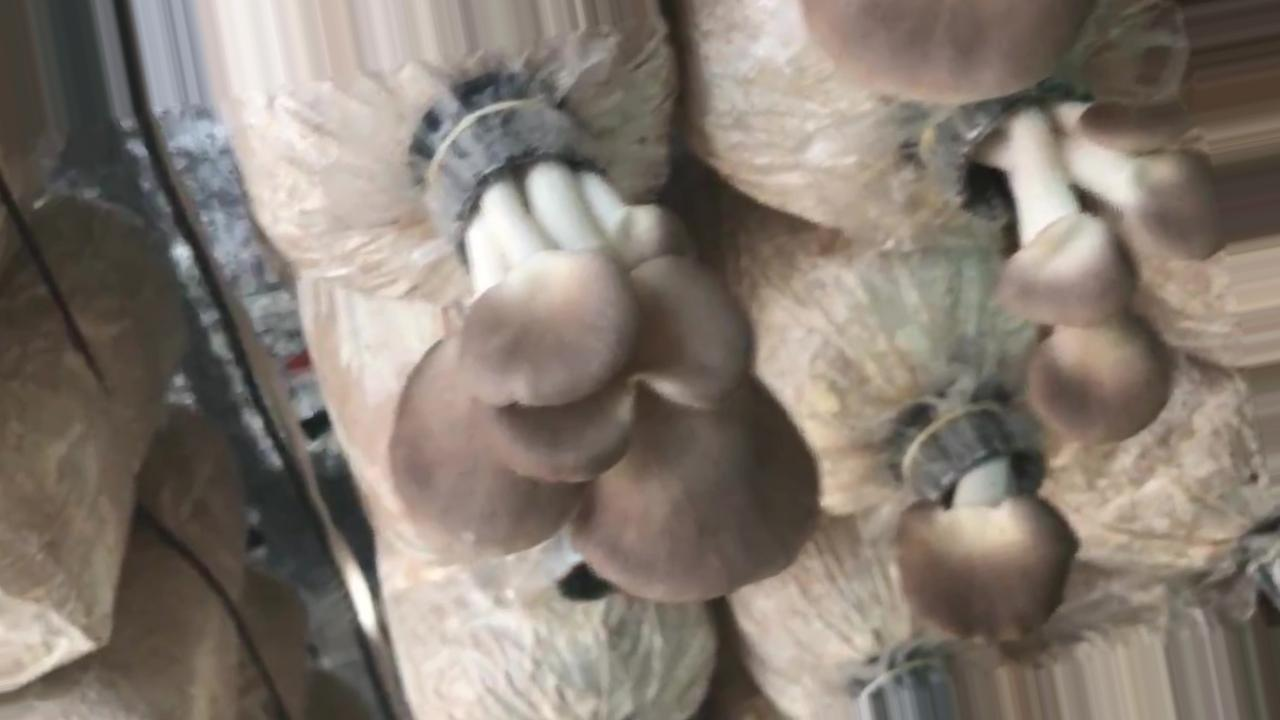nam: (393, 105, 816, 605), (931, 85, 1280, 441), (902, 408, 1074, 644), (807, 1, 1080, 106)
